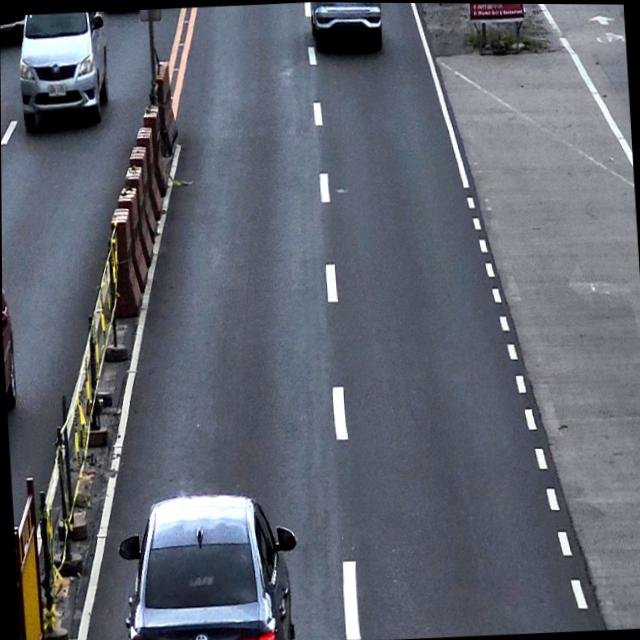Car: (115, 489, 302, 640), (16, 11, 112, 132), (309, 2, 383, 51)
License-Plate: (46, 81, 67, 98)
